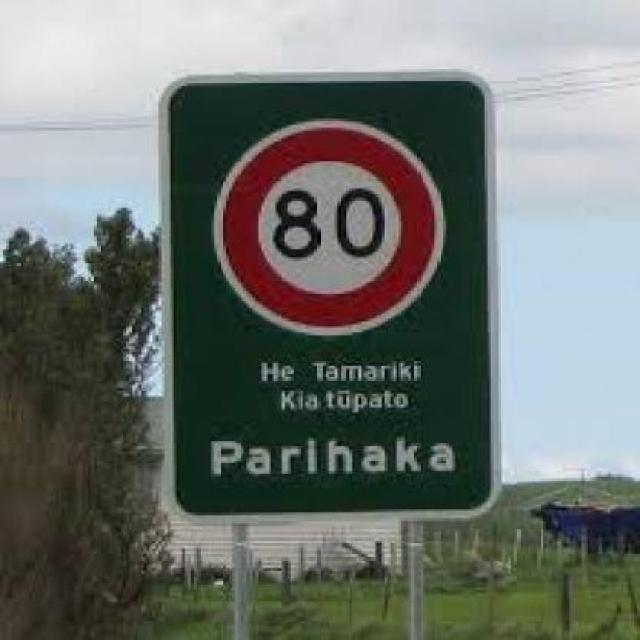forb_speed_over_80: (223, 119, 440, 338)
